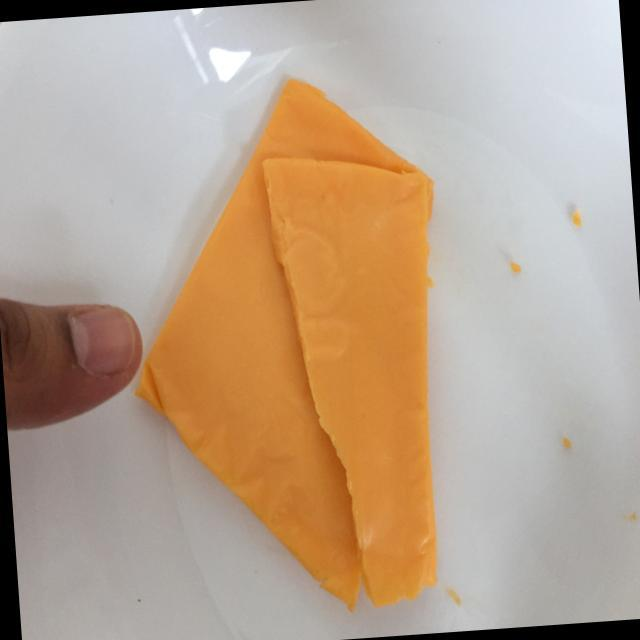Cheese: (125, 66, 469, 631)
Finger: (0, 294, 148, 433)
